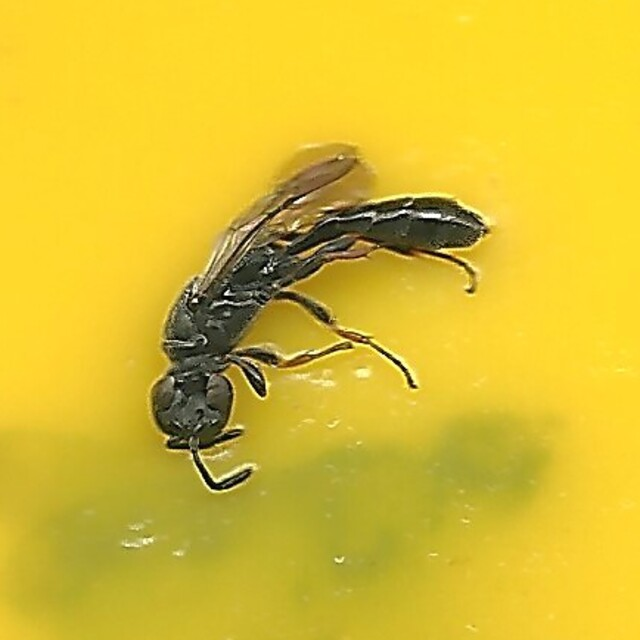Hymenoptera: (147, 143, 493, 497)
